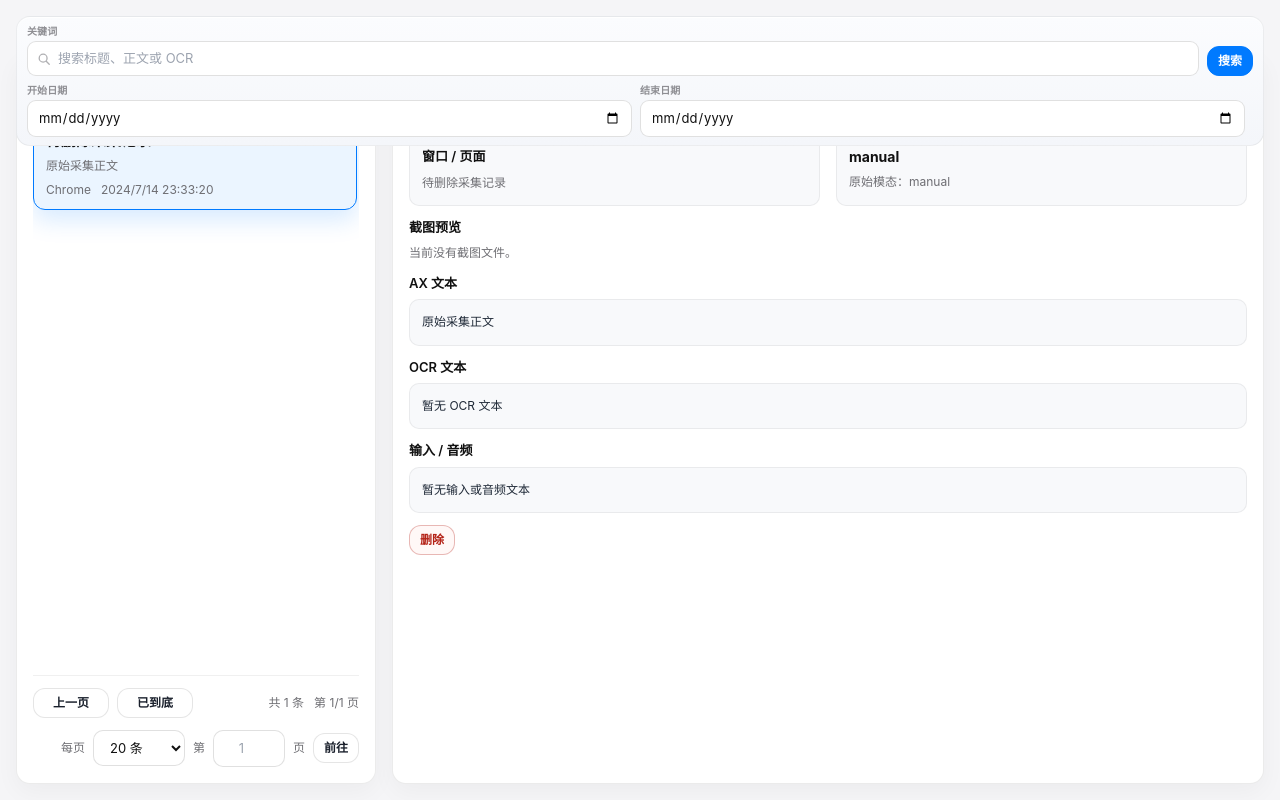
it: 采集与时间线删除 › 确认后删除采集记录并清除详情
(page scrolled)
Expected: the 1st text "待删除采集记录" is shown, [46,131,151,150]
Click the button "删除". click: click(432, 540)
box: [409,525,455,555]
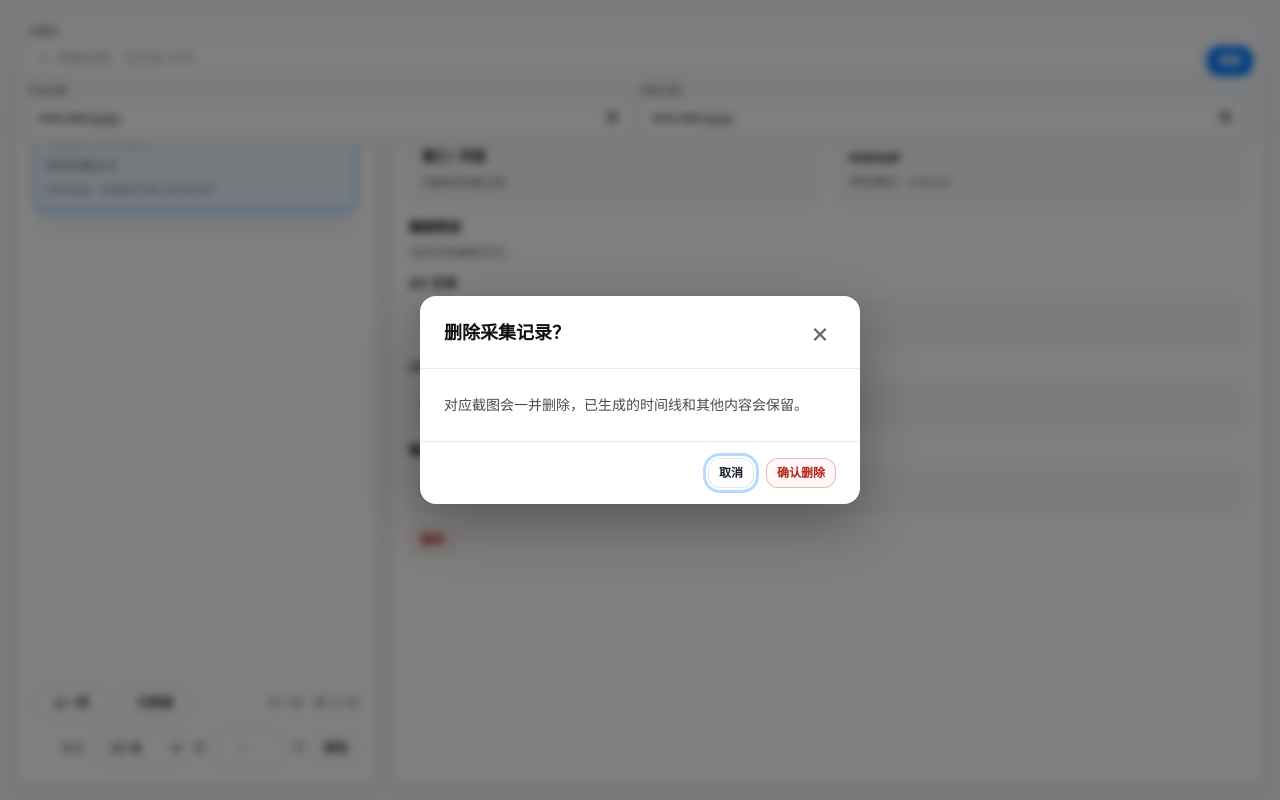
Now the dialog "删除采集记录？" is shown, box [420,296,860,504]
Click the button "确认删除". click: click(801, 473)
box: [766,458,836,488]
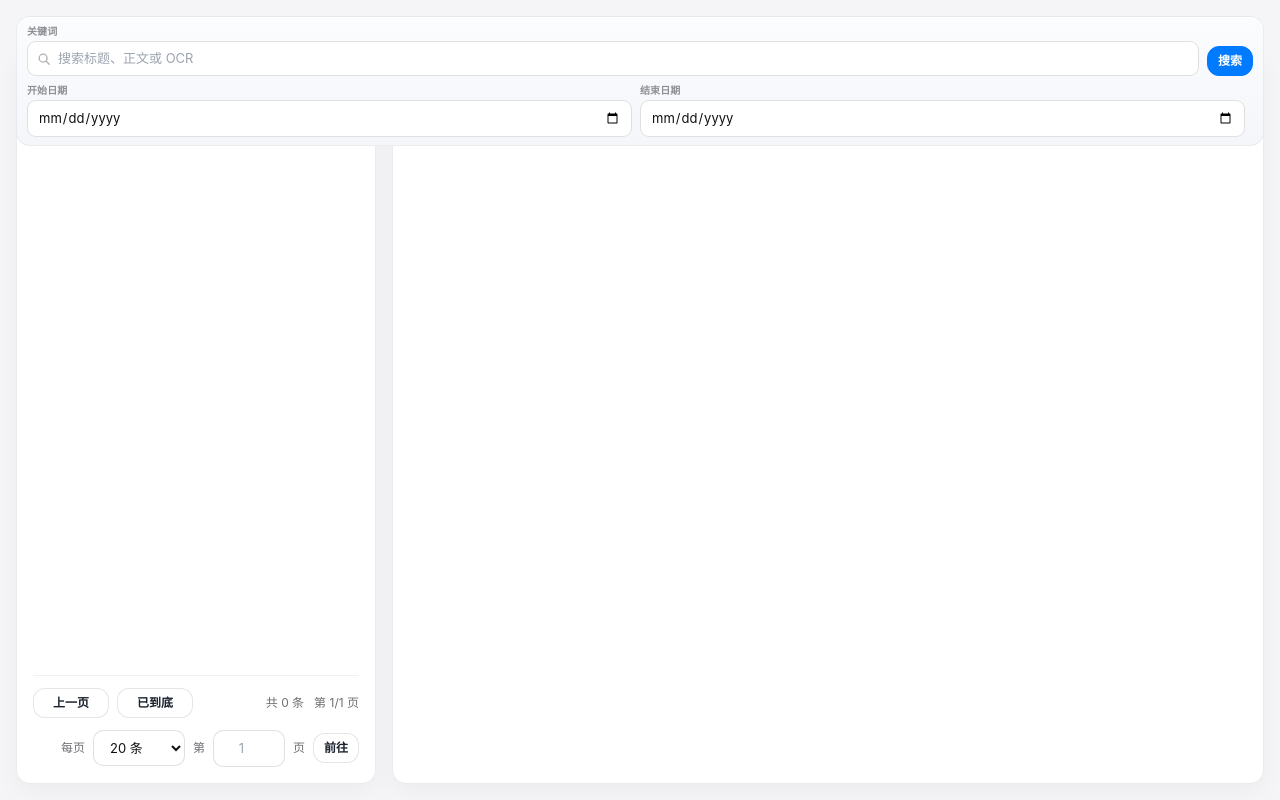
Now the text "暂无采集记录详情" is shown, box [409,72,505,87]
